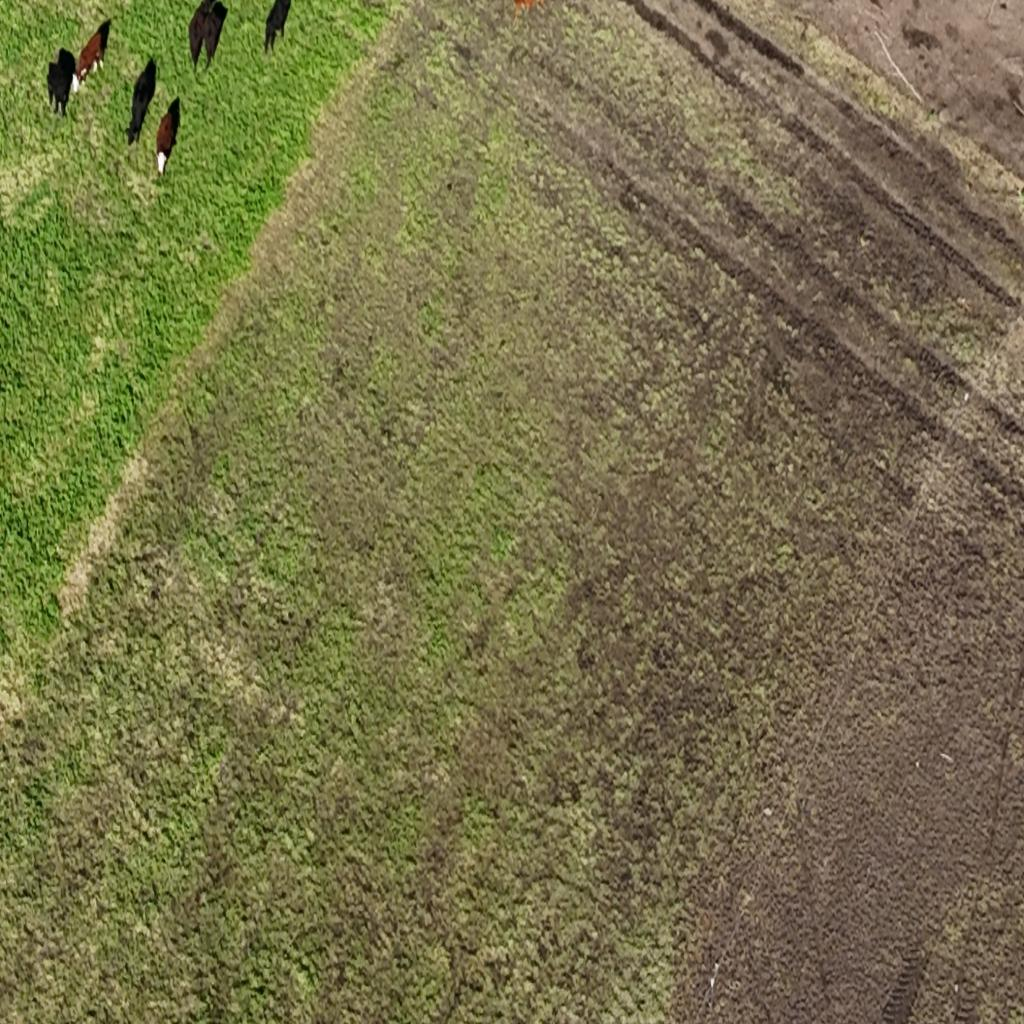cow: (75, 18, 111, 88), (46, 47, 78, 117), (124, 68, 153, 143), (264, 0, 292, 55), (188, 0, 206, 74), (154, 113, 176, 173), (204, 6, 217, 62)
